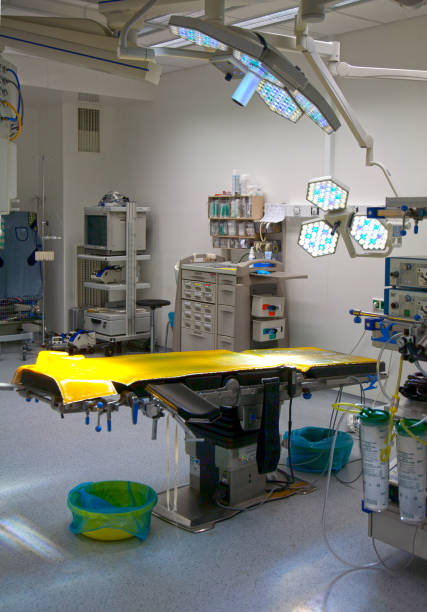bedside_monitor: (80, 211, 129, 252)
handle: (89, 319, 104, 325)
iv_pole: (20, 156, 66, 361)
medical_drawer: (177, 259, 247, 350)
operating_bed: (9, 344, 389, 537)
surgical_light: (151, 13, 341, 136), (294, 175, 392, 261)
waste_bin: (64, 479, 159, 542), (285, 424, 354, 476)
